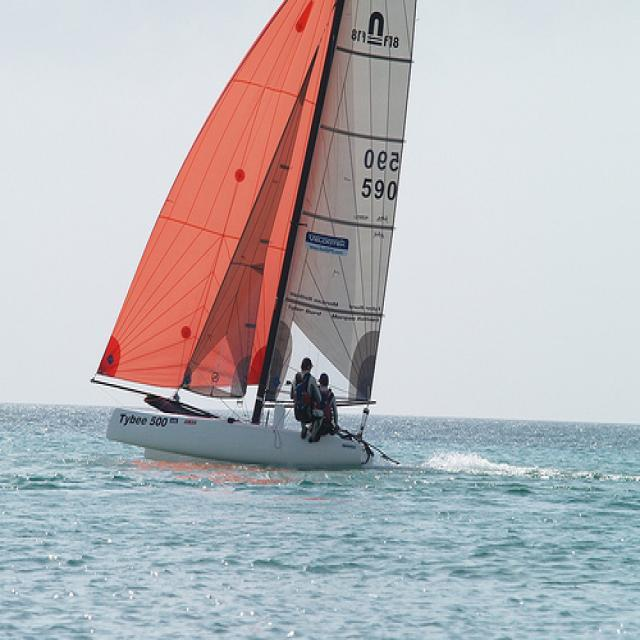Ship: (87, 1, 428, 478)
